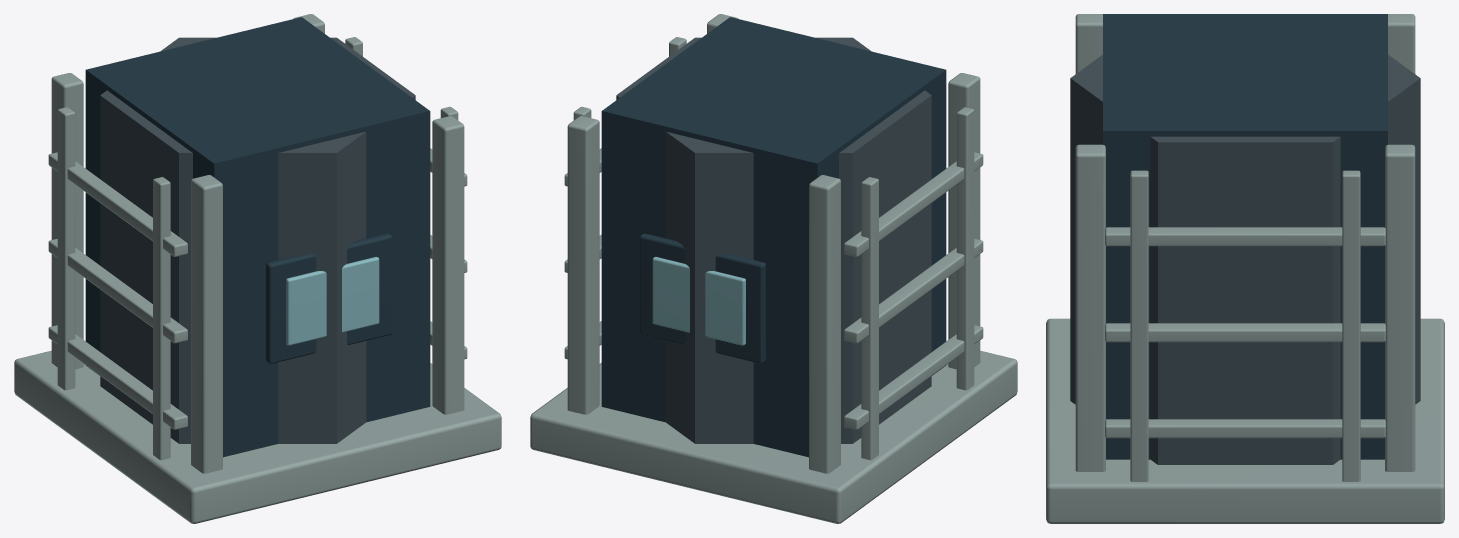
Rendered from receiver-base-1.glb.
3 views of the same model, side by side, from view 1: azimuth 30°, elevation 25°; view 2: azimuth 150°, elevation 25°; view 3: azimuth 270°, elevation 25° (orthographic). The views are drawn at different scales.
Visible parts, largest first — view 1: receiver_2, receiver_1, receiver_0, receiver_4; view 2: receiver_2, receiver_1, receiver_0, receiver_4; view 3: receiver_1, receiver_0, receiver_2.
Boxes of the visible parts, bbox=[...] form: receiver_2: bbox=[85, 17, 430, 457]; receiver_1: bbox=[14, 14, 501, 523]; receiver_0: bbox=[100, 37, 415, 443]; receiver_4: bbox=[286, 257, 379, 345]; receiver_2: bbox=[601, 17, 946, 457]; receiver_1: bbox=[530, 14, 1017, 523]; receiver_0: bbox=[616, 37, 931, 443]; receiver_4: bbox=[652, 257, 745, 345]; receiver_1: bbox=[1046, 14, 1444, 523]; receiver_0: bbox=[1070, 54, 1420, 464]; receiver_2: bbox=[1103, 14, 1387, 459].
Size of the model in its own units: 0.98 by 1 by 0.98.
